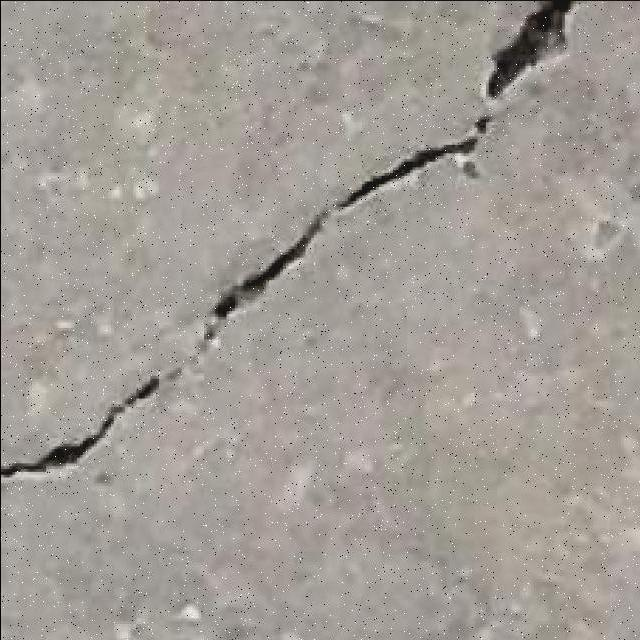crack: (12, 10, 569, 478), (12, 369, 177, 477)
